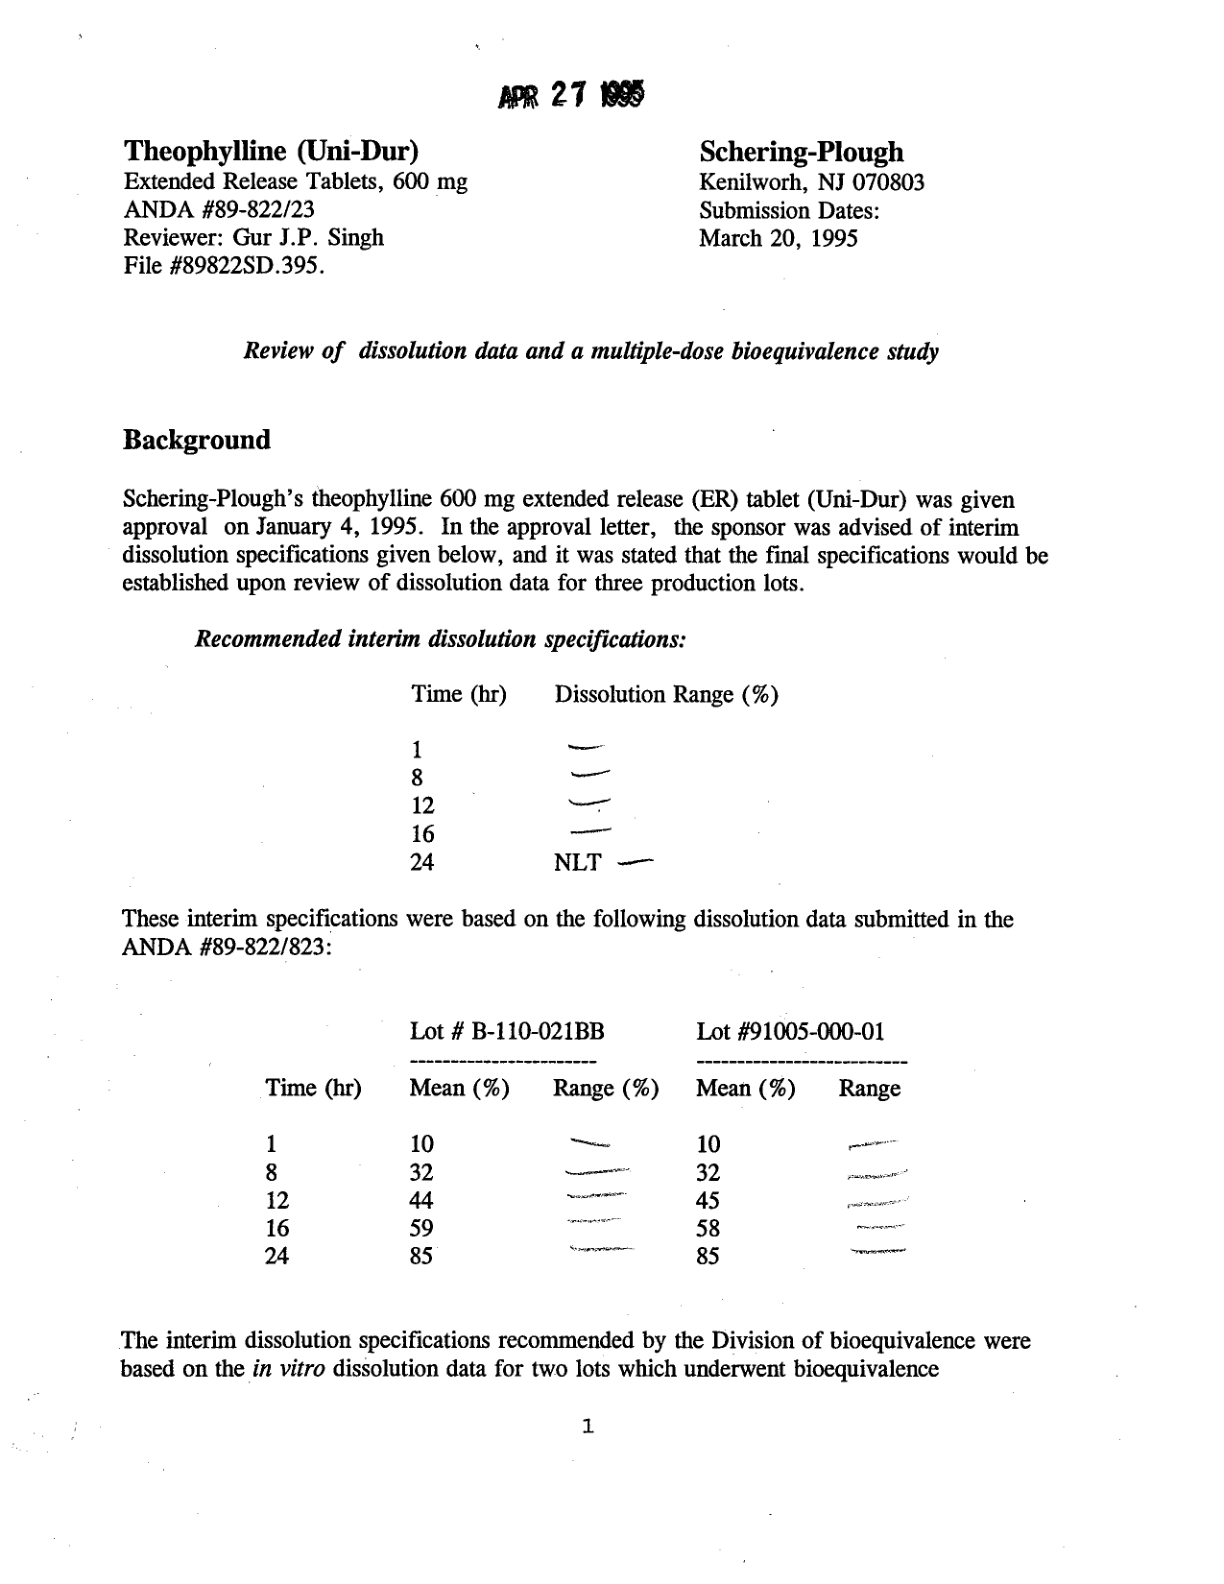nolines: (258, 1016, 912, 1268), (120, 132, 930, 276), (406, 680, 780, 870)
